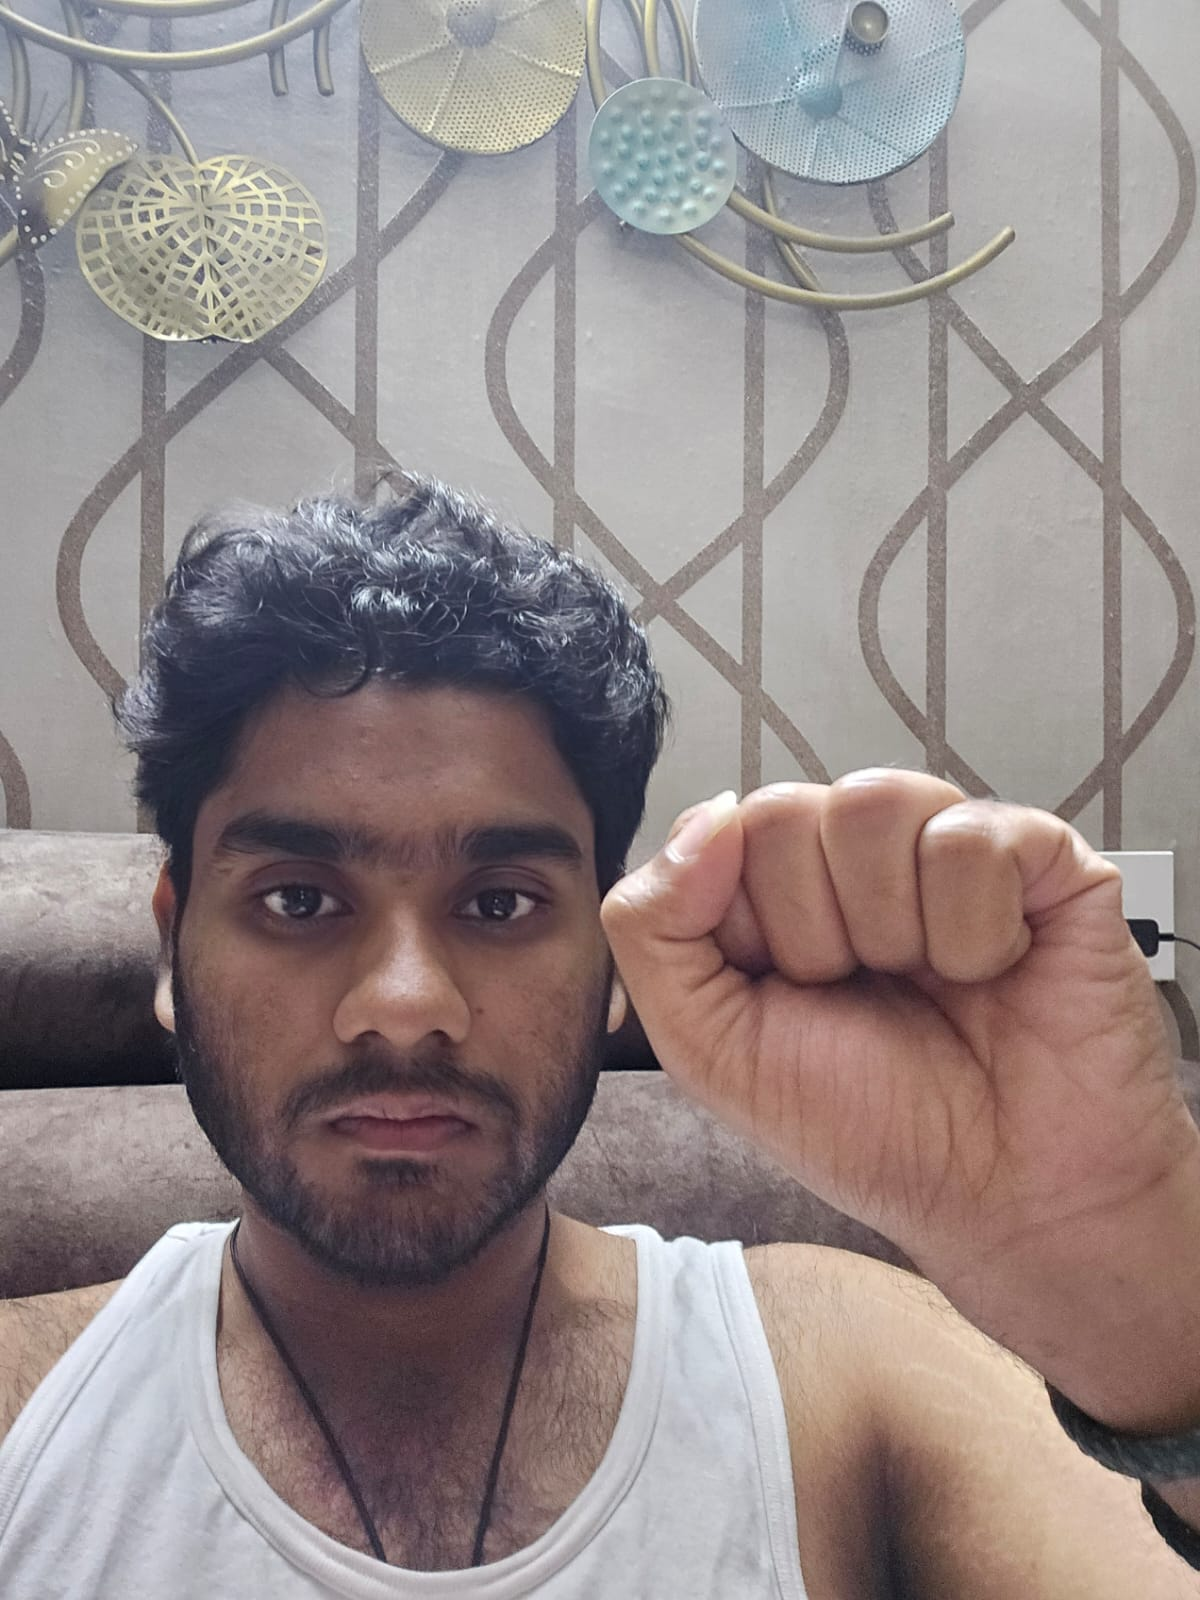yes: (601, 765, 1185, 1255)
